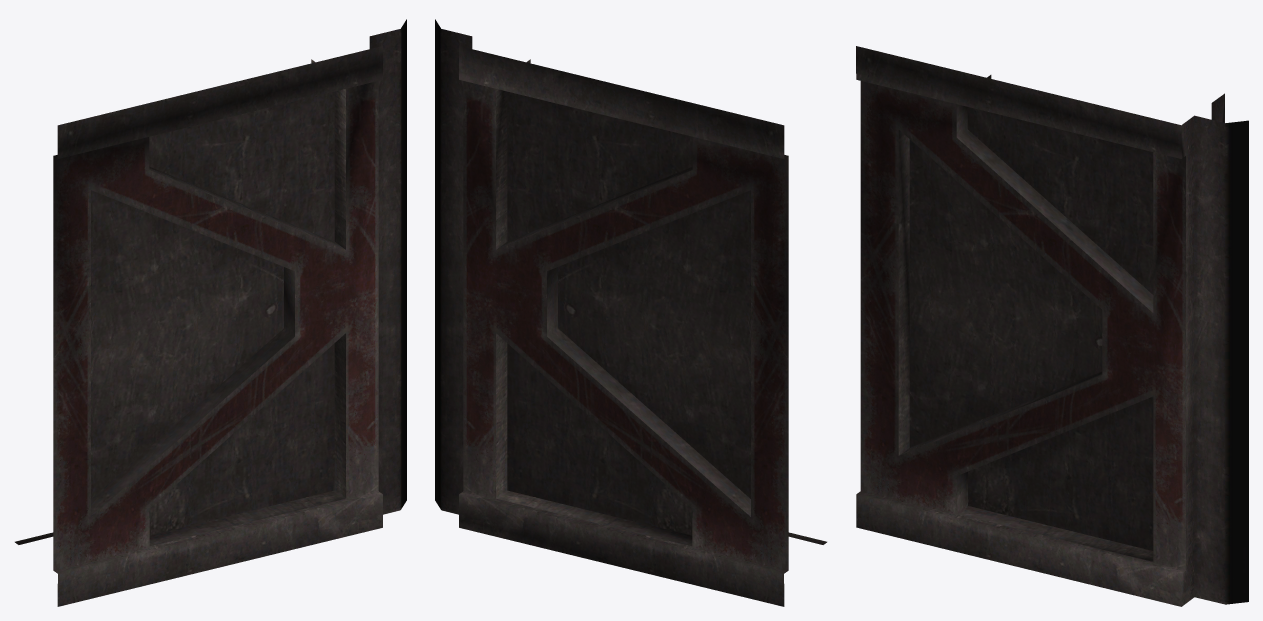
The model's file is ContDoorRight.glb.
3 renders of one model, left to right at view 1: azimuth 30°, elevation 25°; view 2: azimuth 150°, elevation 25°; view 3: azimuth 330°, elevation 25°, orthographic.
Parts seen in each view (by area): view 1: default; view 2: default; view 3: default.
Boxes of the visible parts, bbox=[...] form: default: bbox=[15, 19, 406, 606]; default: bbox=[435, 19, 826, 606]; default: bbox=[856, 46, 1248, 606].
Bounding box in the file's own units: 4.63 × 5.74 × 0.9427.
Materials: 1 (1 with a texture image).
